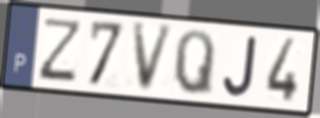4: (263, 36, 300, 106)
7: (87, 18, 127, 89)
J: (221, 34, 259, 99)
Q: (172, 27, 217, 98)
V: (131, 22, 176, 94)
Z: (36, 16, 85, 83)
